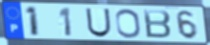1: (25, 5, 42, 38), (57, 7, 73, 38)
6: (175, 9, 200, 40)
B: (142, 9, 173, 40)
O: (114, 8, 143, 39)
U: (85, 7, 113, 38)
